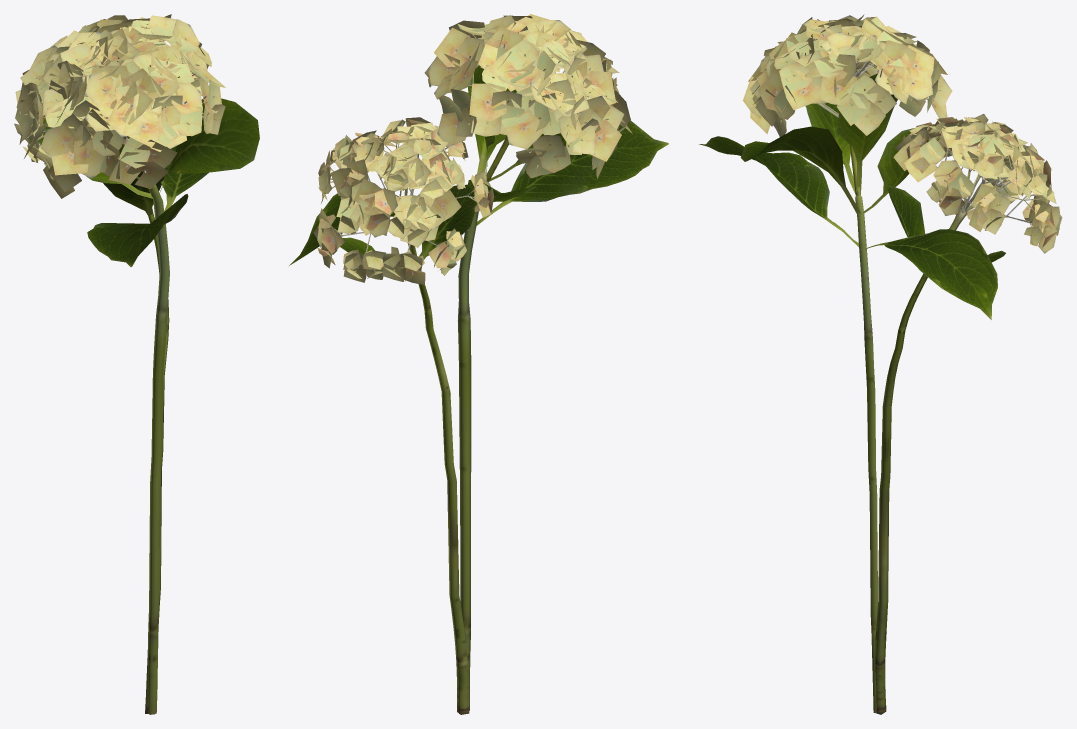
Rendered from Hydrangea_bush_normal_yellowgreen.glb.
3 renders of one model, left to right at view 1: azimuth 30°, elevation 25°; view 2: azimuth 150°, elevation 25°; view 3: azimuth 270°, elevation 25°, orthographic. The views are drawn at different scales.
Parts seen in each view (by area): view 1: BUSHEKK; view 2: BUSHEKK; view 3: BUSHEKK.
Boxes of the visible parts, bbox=[...] form: BUSHEKK: bbox=[14, 14, 259, 714]; BUSHEKK: bbox=[289, 14, 668, 714]; BUSHEKK: bbox=[699, 14, 1062, 714].
Bounding box in the file's own units: 1.48 × 3.79 × 1.87.
Materials: 1 (1 with a texture image).
